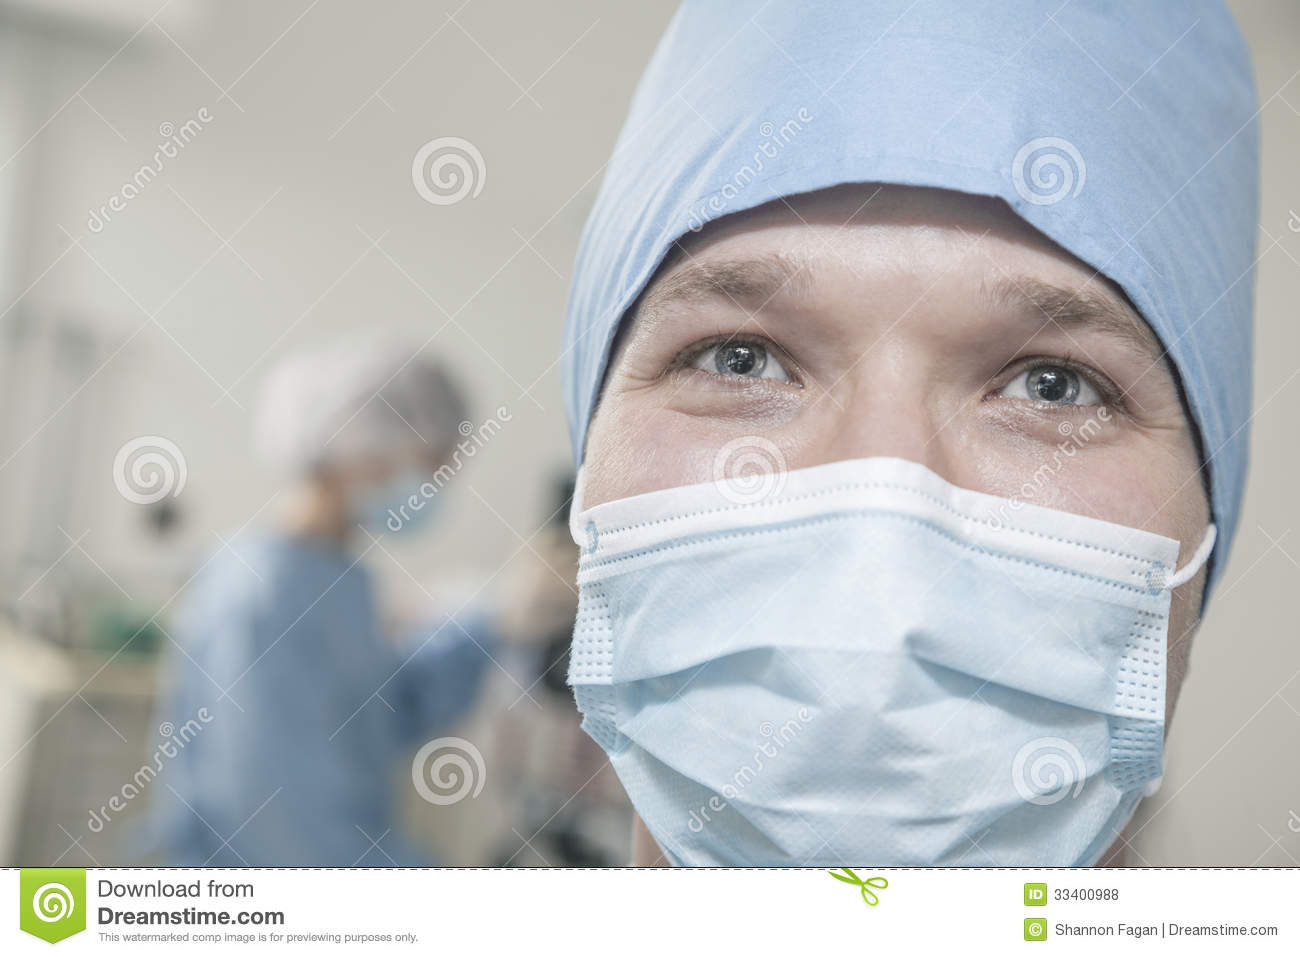mask: (566, 495, 1182, 857)
